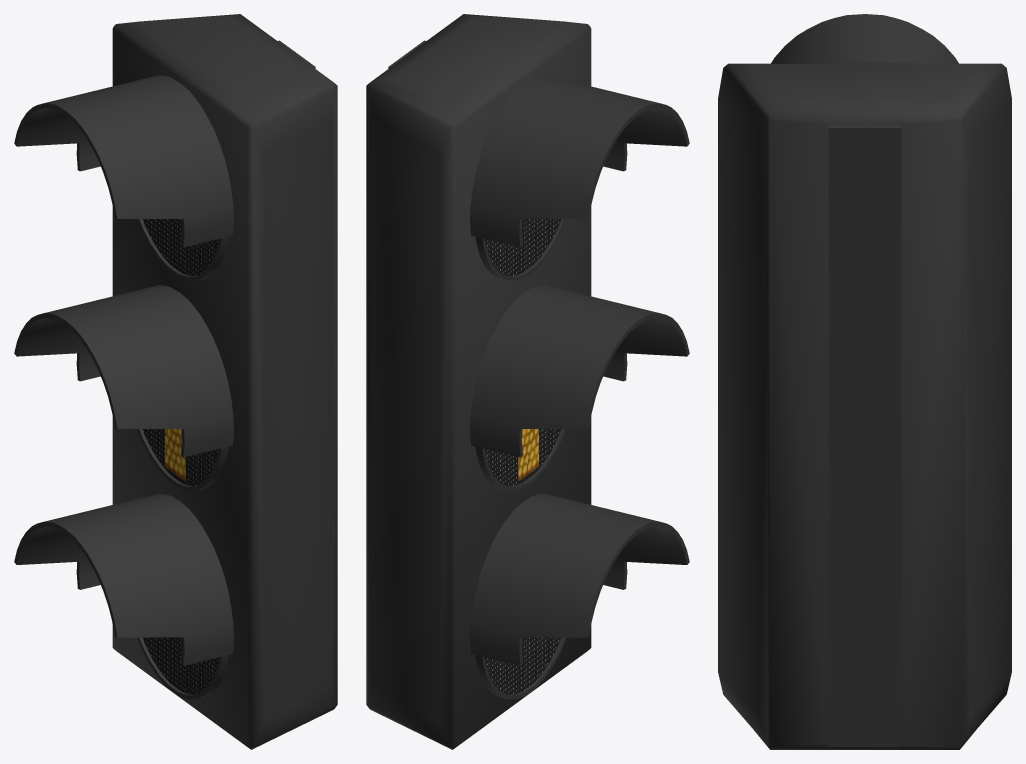
The model's file is 竖排直行灯_YellowLight.fbx.
The picture shows the model from 3 angles, left to right: view 1: azimuth 30°, elevation 25°; view 2: azimuth 150°, elevation 25°; view 3: azimuth 270°, elevation 25°; orthographic projection.
Parts seen in each view (by area): view 1: 竖排直行灯_YellowLight; view 2: 竖排直行灯_YellowLight; view 3: 竖排直行灯_YellowLight.
Part boxes in pixels (x1,y1,x2,y2): 竖排直行灯_YellowLight: [14, 14, 337, 749]; 竖排直行灯_YellowLight: [366, 14, 689, 749]; 竖排直行灯_YellowLight: [718, 14, 1011, 749].
Bounding box in the file's own units: 0.6 × 1.58 × 0.65.
3 materials, 2 textured.
